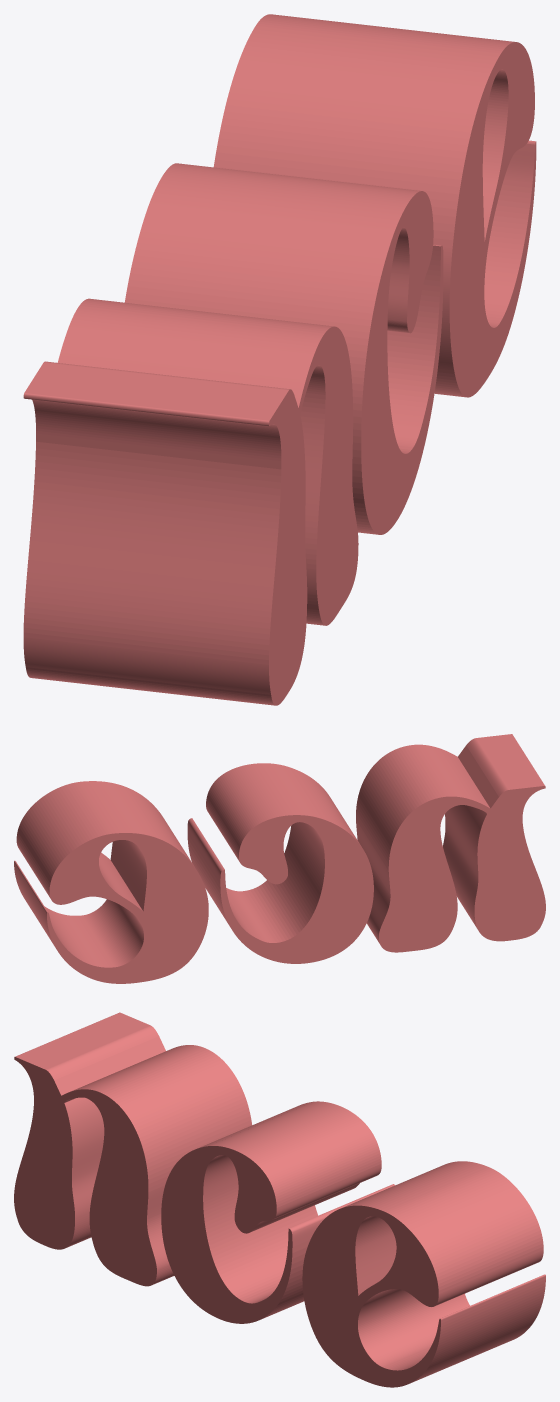
Rendered from nce_table.glb.
The picture shows the model from 3 angles, top to bottom: view 1: azimuth 30°, elevation 25°; view 2: azimuth 150°, elevation 25°; view 3: azimuth 270°, elevation 25°; orthographic projection. The views are drawn at different scales.
Bounding box in the file's own units: 43.74 × 16.11 × 43.74.
